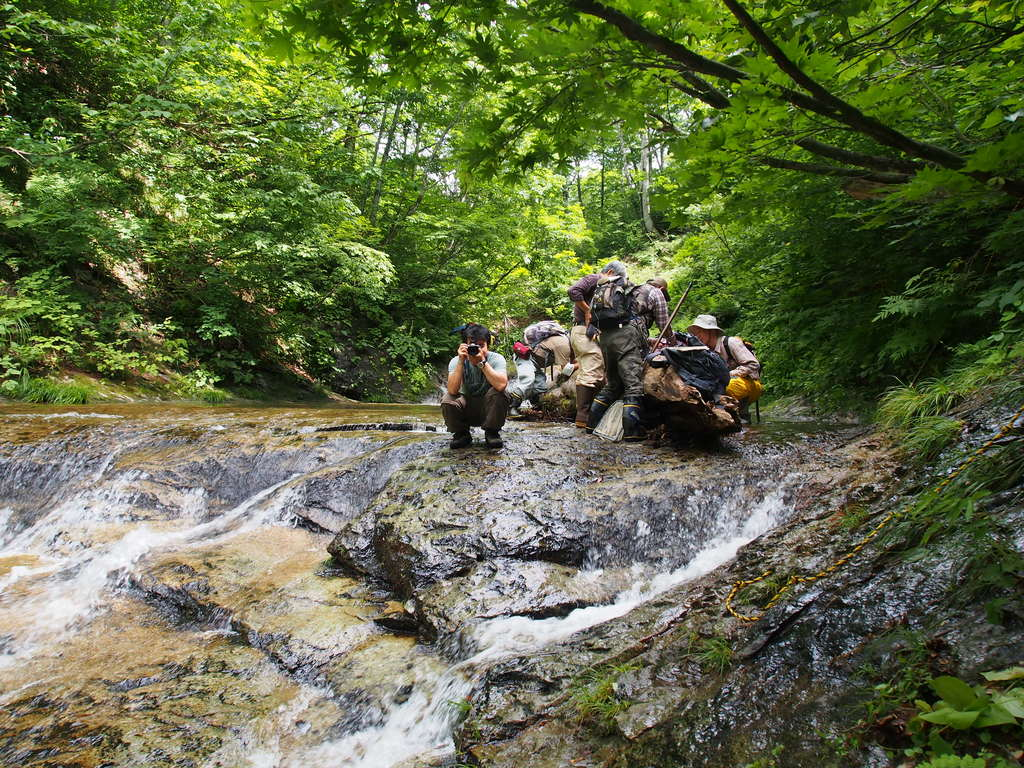Tree: (380, 0, 798, 398), (0, 0, 384, 407), (785, 0, 1023, 431)
